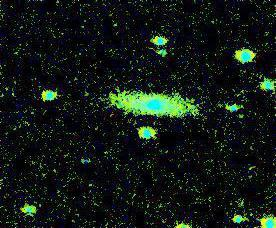star: (227, 104, 257, 134)
